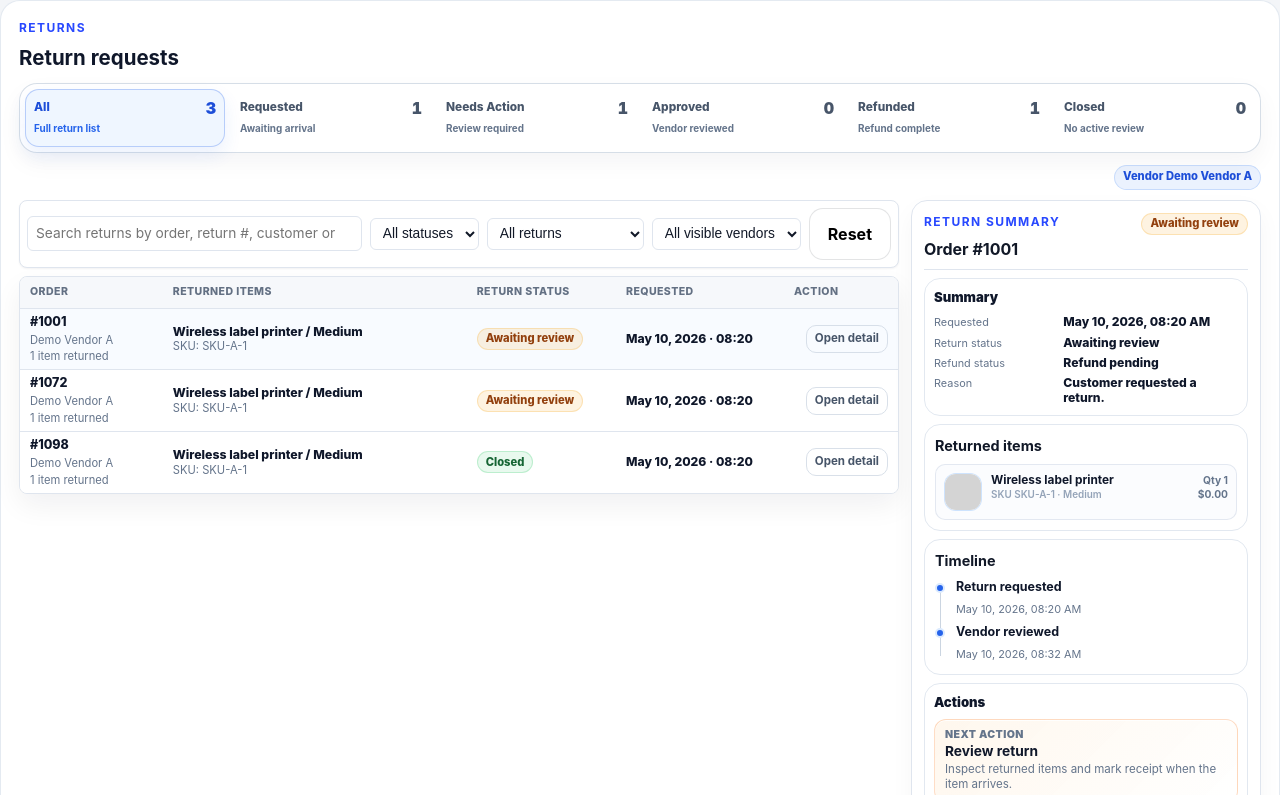
Test: ReturnsPage control center › shows closed refunded Shopify return requests in the refunded filter, not pending review
The width and height of the screenshot is (1280, 795).
Expected: the text "#1098" is shown, [30,437,69,452]
What coordinates should you click on to do the following:
click the button "Needs Action 1 Review required"
I would click on:
 (537, 118)
Its box is [437,89,637,147].
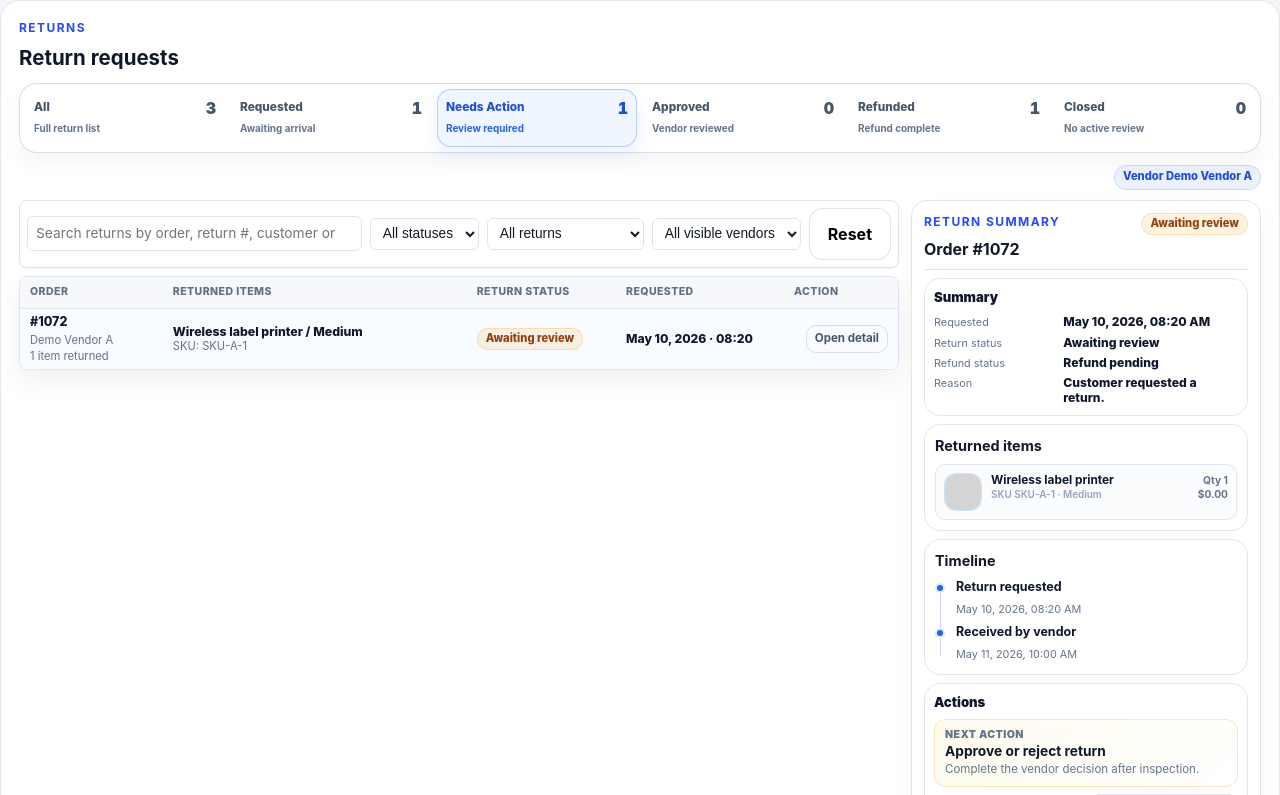
Expected: the text "Wireless label printer" is shown, [991,473,1114,487]
Result: the button "#1001" is gone
Result: the button "#1098" is gone
What coordinates should you click on to do the following:
click the button "Refunded 1 Refund complete"
I would click on:
 (949, 118)
Its box is [849,89,1049,147].
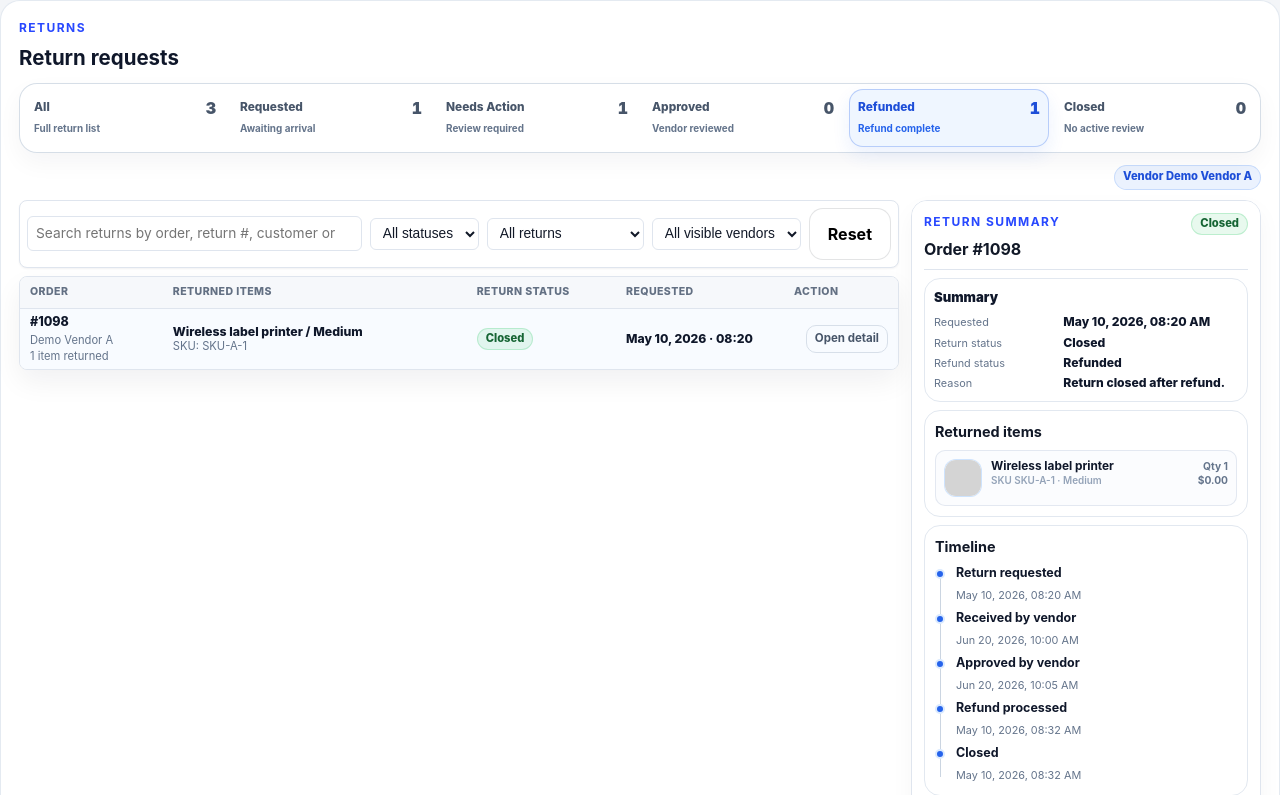
Expected: the button "#1001" is not shown
Result: the text "#1098" is shown at [30,314,69,329]
